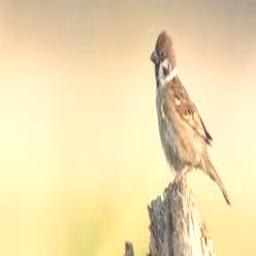Sparrow: (151, 30, 231, 207)
